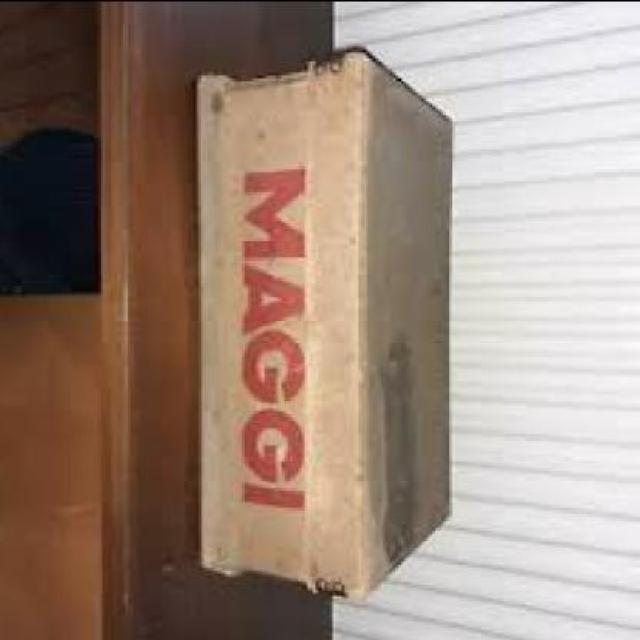cardboard: (197, 43, 455, 594)
